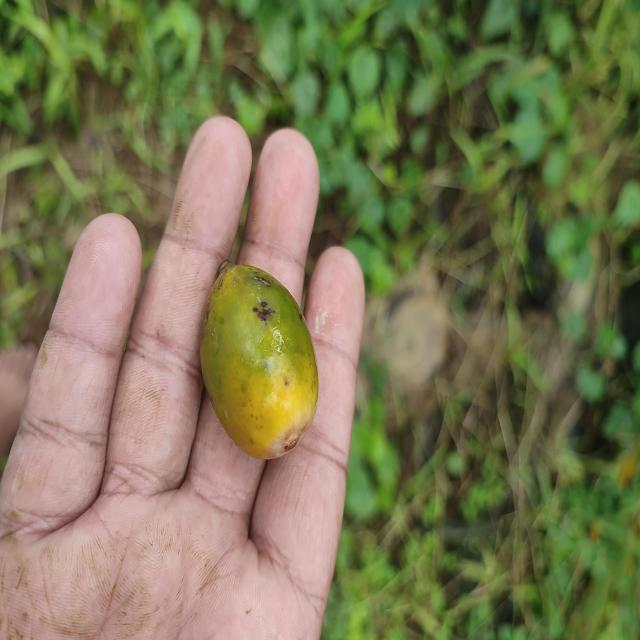good: (198, 264, 319, 461)
